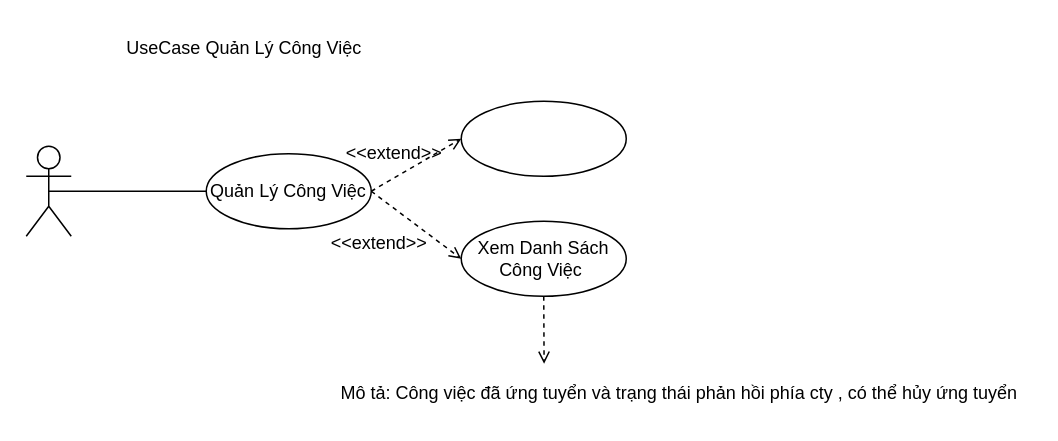
This 1058x441 diagram has some shape labels left out. The shapes that lost their labels are listed below. From the top down, each one's centre as x and y in pixels, then its label:
[543,138]: Ứng Tuyển Công Việc
[48,190]: Cilent
